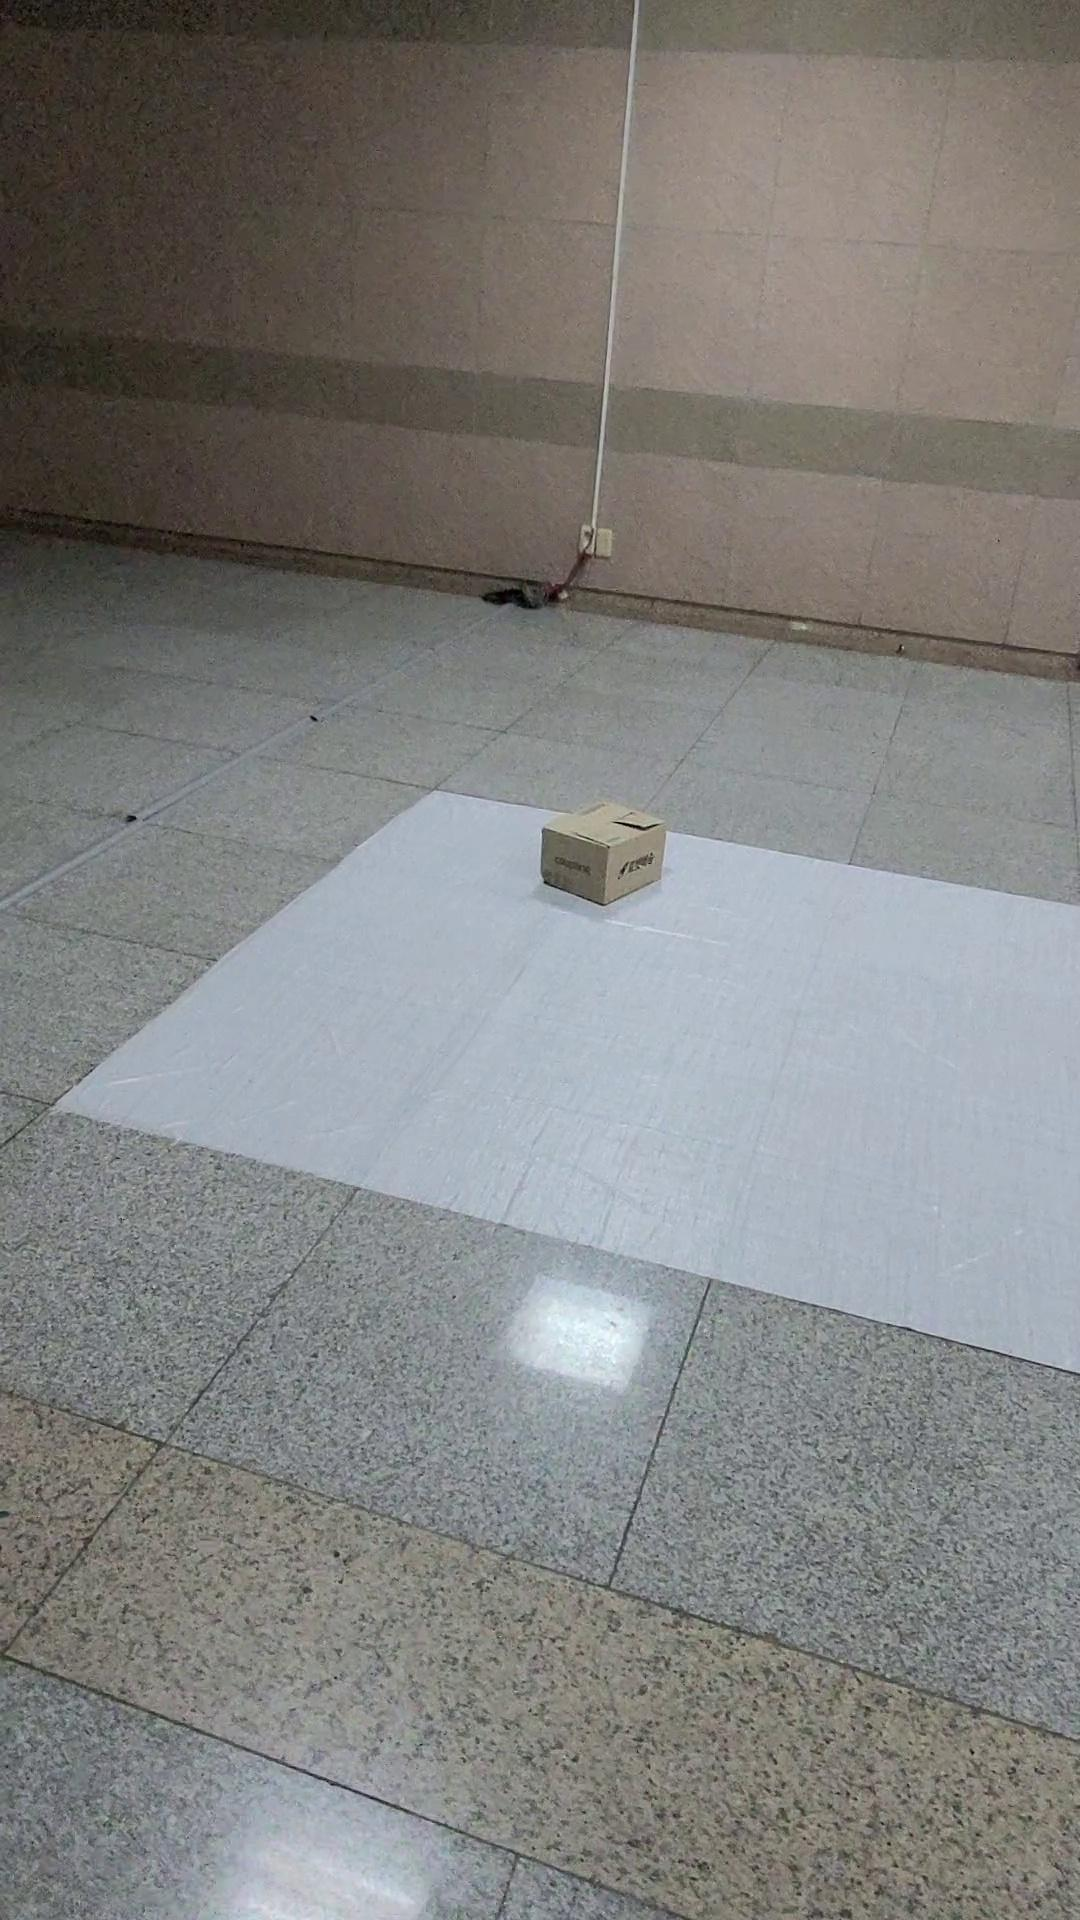Box: (512, 785, 698, 920)
